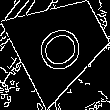O_NE: (30, 12, 92, 74)
